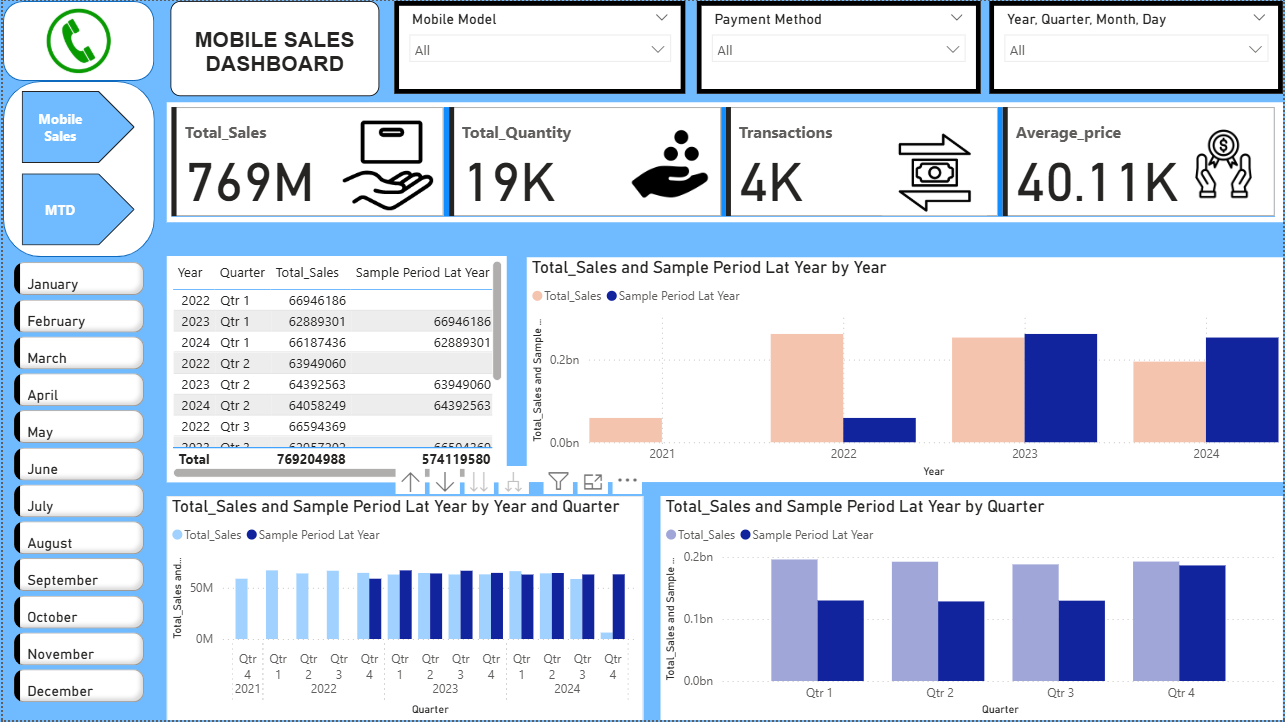

The page's visual inventory and layout, read from the dashboard file:
{"tool":"powerbi","page":{"name":"Sample Period Last Year","canvas":[1280,720],"ordinal":2},"visuals":[{"type":"shape","box":[0,0,151.2,80],"z":0},{"type":"image","box":[0,0,151.2,80],"z":1000},{"type":"shape","box":[0,79.5,151.6,176.1],"z":2000},{"type":"cardVisual","fields":{"Data":["Mobile Sales Data.Total_Sales","Mobile Sales Data.Total_Quantity","Mobile Sales Data.Transactions","Mobile Sales Data.Average_price"]},"box":[163.9,101.5,1116.4,119.8],"z":3000},{"type":"slicer","fields":{"Values":["Mobile Sales Data.Mobile Model"]},"box":[391.2,0,291.2,92.5],"z":4000},{"type":"slicer","fields":{"Values":["Mobile Sales Data.Payment Method"]},"box":[693.8,0,283.8,92.5],"z":5000},{"type":"textbox","box":[166.9,0,209,95],"z":6000},{"type":"slicer","fields":{"Values":["Custom_Calender.Date.Variation.Date Hierarchy.Year","Custom_Calender.Date.Variation.Date Hierarchy.Quarter","Custom_Calender.Date.Variation.Date Hierarchy.Month","Custom_Calender.Date.Variation.Date Hierarchy.Day"]},"box":[986.2,0,293.8,92.5],"z":7000},{"type":"advancedSlicerVisual","fields":{"Values":["Custom_Calender.Date.Variation.Date Hierarchy.Month"]},"box":[6.2,256.2,140,450],"z":8000},{"type":"tableEx","fields":{"Values":["Custom_Calender.Date.Variation.Date Hierarchy.Year","Custom_Calender.Date.Variation.Date Hierarchy.Quarter","Mobile Sales Data.Total_Sales","Mobile Sales Data.Sample Period Lat Year"]},"box":[163.9,255.6,339.9,226.2],"z":9000},{"type":"clusteredColumnChart","fields":{"Category":["Custom_Calender.Date.Variation.Date Hierarchy.Year","Custom_Calender.Date.Variation.Date Hierarchy.Quarter"],"Y":["Mobile Sales Data.Total_Sales","Mobile Sales Data.Sample Period Lat Year"]},"box":[523.4,256.8,756.9,225],"z":10000},{"type":"clusteredColumnChart","fields":{"Category":["Custom_Calender.Date.Variation.Date Hierarchy.Year","Custom_Calender.Date.Variation.Date Hierarchy.Quarter"],"Y":["Mobile Sales Data.Total_Sales","Mobile Sales Data.Sample Period Lat Year"]},"box":[163.9,495.2,475.7,225],"z":11000},{"type":"clusteredColumnChart","fields":{"Category":["Custom_Calender.Date.Variation.Date Hierarchy.Year","Custom_Calender.Date.Variation.Date Hierarchy.Quarter"],"Y":["Mobile Sales Data.Total_Sales","Mobile Sales Data.Sample Period Lat Year"]},"box":[657.9,495.2,622.4,225],"z":12000},{"type":"pageNavigator","box":[18.3,90.5,113.7,154.1],"z":13000}]}

Visuals, with their boxes in screenshot pixels (x1, y1, x2, y2), scaled from the page's 1280x720 canvas onto the 1285x722 screenshot:
shape: pyautogui.locateOnScreen(0, 0, 152, 80)
image: pyautogui.locateOnScreen(0, 0, 152, 80)
shape: pyautogui.locateOnScreen(0, 80, 152, 256)
cardVisual - Mobile Sales Data.Total_Sales x Mobile Sales Data.Total_Quantity: pyautogui.locateOnScreen(165, 102, 1284, 222)
slicer - Mobile Sales Data.Mobile Model: pyautogui.locateOnScreen(393, 0, 685, 93)
slicer - Mobile Sales Data.Payment Method: pyautogui.locateOnScreen(697, 0, 981, 93)
textbox: pyautogui.locateOnScreen(168, 0, 377, 95)
slicer - Custom_Calender.Date.Variation.Date Hierarchy.Year x Custom_Calender.Date.Variation.Date Hierarchy.Quarter: pyautogui.locateOnScreen(990, 0, 1284, 93)
advancedSlicerVisual - Custom_Calender.Date.Variation.Date Hierarchy.Month: pyautogui.locateOnScreen(6, 257, 147, 708)
tableEx - Custom_Calender.Date.Variation.Date Hierarchy.Year x Custom_Calender.Date.Variation.Date Hierarchy.Quarter: pyautogui.locateOnScreen(165, 256, 506, 483)
clusteredColumnChart - Custom_Calender.Date.Variation.Date Hierarchy.Year x Custom_Calender.Date.Variation.Date Hierarchy.Quarter: pyautogui.locateOnScreen(525, 258, 1284, 483)
clusteredColumnChart - Custom_Calender.Date.Variation.Date Hierarchy.Year x Custom_Calender.Date.Variation.Date Hierarchy.Quarter: pyautogui.locateOnScreen(165, 497, 642, 721)
clusteredColumnChart - Custom_Calender.Date.Variation.Date Hierarchy.Year x Custom_Calender.Date.Variation.Date Hierarchy.Quarter: pyautogui.locateOnScreen(660, 497, 1284, 721)
pageNavigator: pyautogui.locateOnScreen(18, 91, 133, 245)
